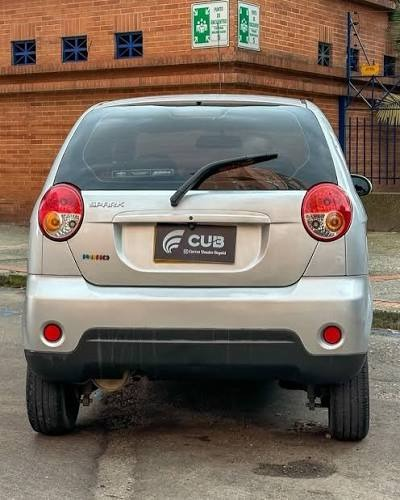car: (24, 70, 376, 458)
